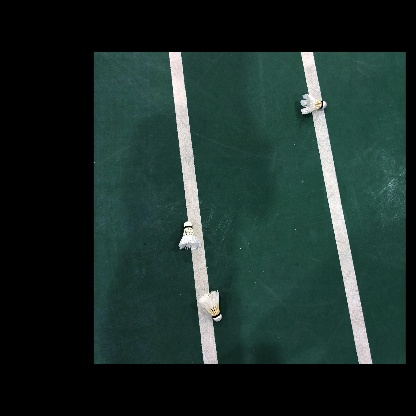ball_single: (198, 290, 222, 321), (179, 221, 201, 249), (300, 94, 327, 115)
